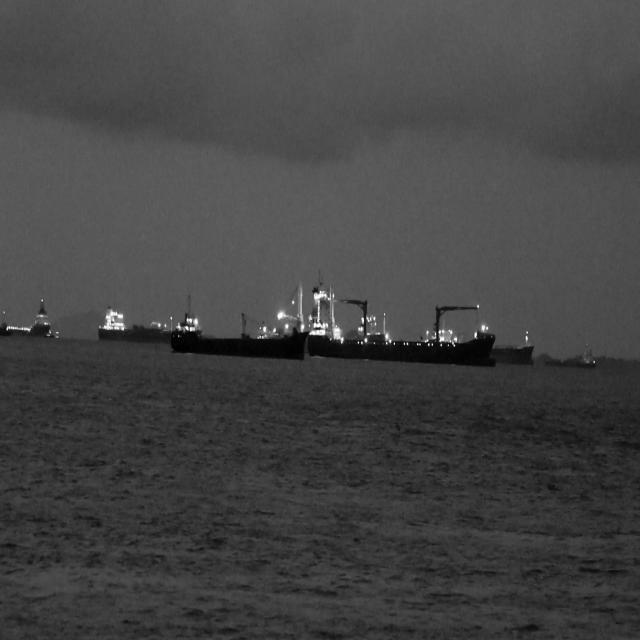ship: (306, 280, 496, 364), (170, 278, 307, 356), (97, 300, 170, 340), (1, 292, 51, 336), (492, 325, 534, 364), (545, 345, 601, 372), (46, 326, 62, 344)
